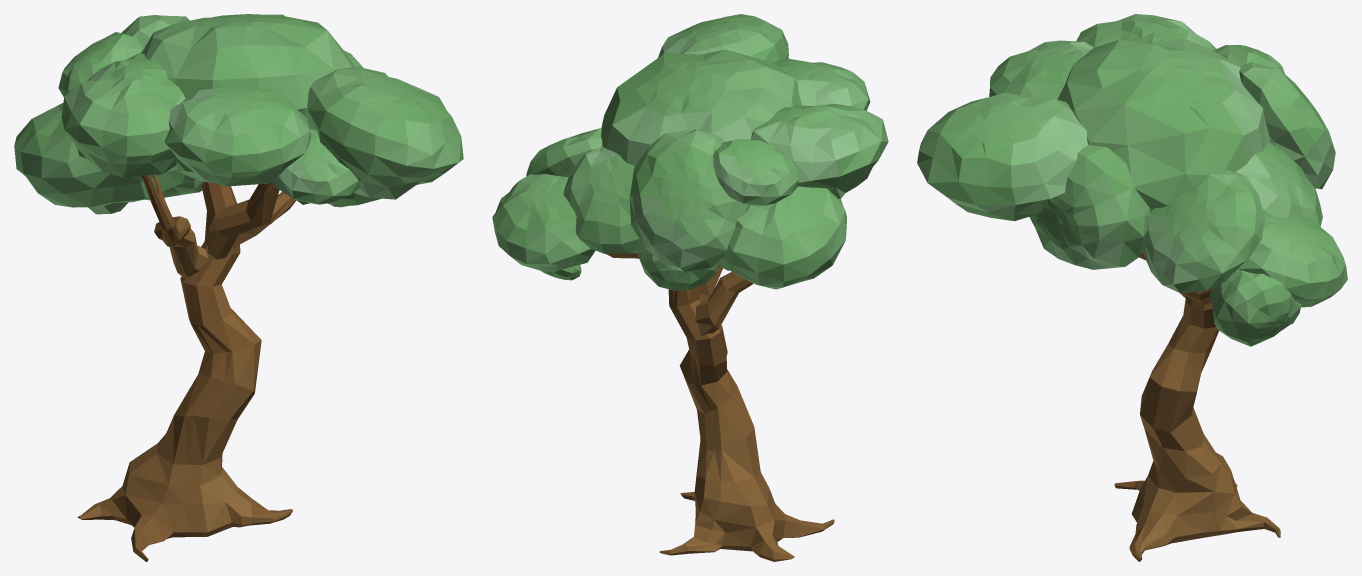
File: tree_1_a.dae
3 renders of one model, left to right at view 1: azimuth 30°, elevation 25°; view 2: azimuth 150°, elevation 25°; view 3: azimuth 270°, elevation 25°, orthographic. The views are drawn at different scales.
Visible parts, largest first — view 1: crown_1_a, trunk_1_a; view 2: crown_1_a, trunk_1_a; view 3: crown_1_a, trunk_1_a.
Part boxes in pixels (x1,y1,x2,y2): crown_1_a: [14, 14, 463, 214]; trunk_1_a: [77, 174, 296, 561]; crown_1_a: [492, 14, 888, 290]; trunk_1_a: [606, 252, 834, 561]; crown_1_a: [917, 14, 1347, 346]; trunk_1_a: [1114, 251, 1280, 561].
Bounding box in the file's own units: 4.06 × 4.24 × 5.28.
1 material, 1 textured.
